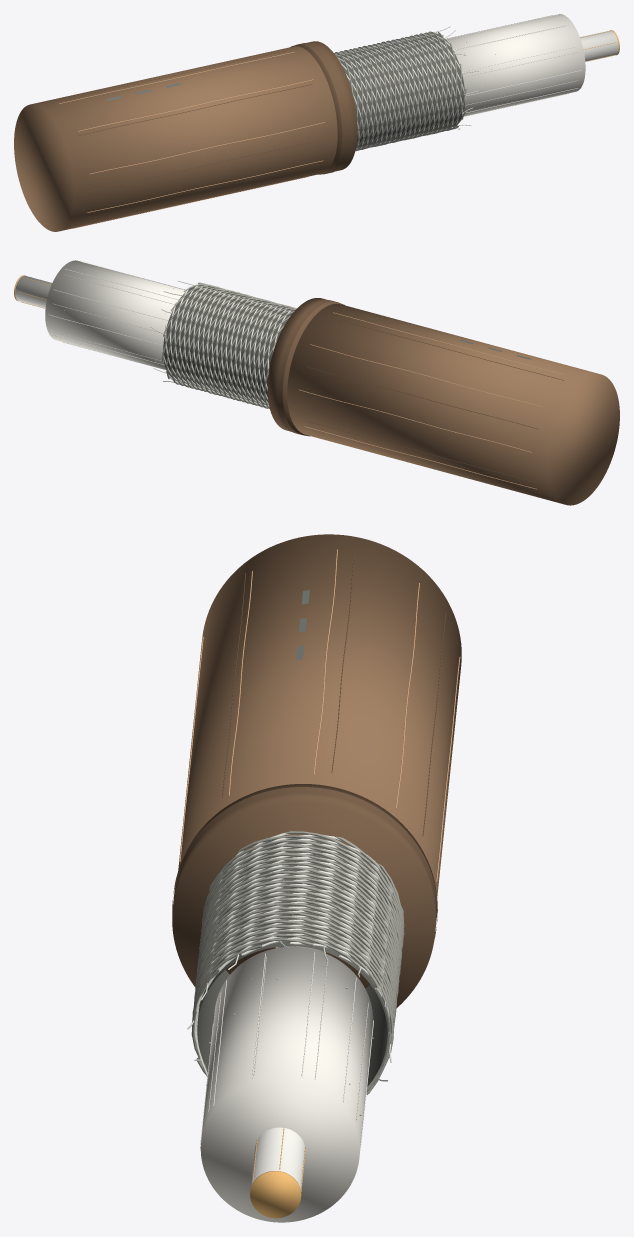
File: rf-rg141-macro.glb
3 renders of one model, top to bottom at view 1: azimuth 30°, elevation 25°; view 2: azimuth 150°, elevation 25°; view 3: azimuth 270°, elevation 25°, orthographic. The views are drawn at different scales.
Parts seen in each view (by area): view 1: macro jacket body, macro dielectric exposed core, shadow seen through braid windows, thick jacket cut wall, rounded jacket cut lip, polished solid center conductor, macro braid shadow carrier 06 strand 1, macro braid shadow carrier 08 strand 1, macro braid shadow carrier 05 strand 1, macro braid shadow carrier 07 strand 1, macro braid shadow carrier 04 strand 1, macro braid shadow carrier 11 strand 1 (+6 smaller); view 2: macro jacket body, macro dielectric exposed core, shadow seen through braid windows, thick jacket cut wall, rounded jacket cut lip, polished solid center conductor, macro braid shadow carrier 03 strand 1, macro braid shadow carrier 02 strand 1, macro braid shadow carrier 04 strand 1, macro braid shadow carrier 12 strand 1, macro braid shadow carrier 01 strand 1, macro braid shadow carrier 11 strand 1 (+5 smaller); view 3: macro jacket body, macro dielectric exposed core, thick jacket cut wall, shadow seen through braid windows, polished solid center conductor, polished conductor cut face glow, rounded jacket cut lip, macro braid shadow carrier 04 strand 2, macro braid shadow carrier 05 strand 2, macro braid shadow carrier 10 strand 2, macro braid shadow carrier 07 strand 2, macro braid shadow carrier 09 strand 2 (+7 smaller).
Boxes of the visible parts, x1,y1,x2,y2 form: macro jacket body: (14, 46, 337, 231); macro dielectric exposed core: (445, 14, 585, 116); shadow seen through braid windows: (337, 34, 464, 147); thick jacket cut wall: (290, 41, 357, 174); rounded jacket cut lip: (295, 43, 348, 174); polished solid center conductor: (580, 30, 618, 61); macro braid shadow carrier 06 strand 1: (361, 32, 442, 149); macro braid shadow carrier 08 strand 1: (370, 32, 452, 147); macro braid shadow carrier 05 strand 1: (357, 33, 438, 150); macro braid shadow carrier 07 strand 1: (358, 32, 447, 149); macro braid shadow carrier 04 strand 1: (355, 34, 433, 150); macro braid shadow carrier 11 strand 1: (334, 39, 466, 144); macro jacket body: (287, 304, 619, 505); macro dielectric exposed core: (45, 260, 186, 369); shadow seen through braid windows: (163, 285, 294, 404); thick jacket cut wall: (267, 298, 344, 436); rounded jacket cut lip: (276, 300, 338, 435); polished solid center conductor: (15, 275, 52, 308); macro braid shadow carrier 03 strand 1: (171, 290, 288, 399); macro braid shadow carrier 02 strand 1: (176, 291, 292, 401); macro braid shadow carrier 04 strand 1: (166, 289, 291, 398); macro braid shadow carrier 12 strand 1: (185, 294, 295, 403); macro braid shadow carrier 01 strand 1: (180, 292, 296, 401); macro braid shadow carrier 11 strand 1: (190, 295, 294, 404); macro jacket body: (178, 534, 461, 897); macro dielectric exposed core: (200, 946, 373, 1222); thick jacket cut wall: (172, 784, 437, 1008); shadow seen through braid windows: (197, 837, 388, 1086); polished solid center conductor: (251, 946, 323, 1191); polished conductor cut face glow: (250, 1171, 301, 1218); rounded jacket cut lip: (172, 787, 437, 939); macro braid shadow carrier 04 strand 2: (195, 866, 398, 1093); macro braid shadow carrier 05 strand 2: (195, 871, 404, 1051); macro braid shadow carrier 10 strand 2: (193, 839, 401, 1016); macro braid shadow carrier 07 strand 2: (195, 836, 403, 996); macro braid shadow carrier 09 strand 2: (192, 835, 402, 1013).
Size of the model in its own units: 6.46 by 1.33 by 1.45.
